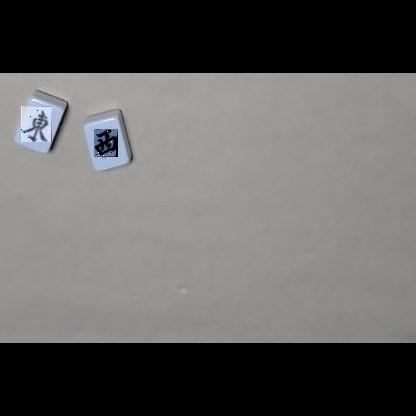1z: (21, 106, 52, 142)
3z: (94, 129, 118, 157)
